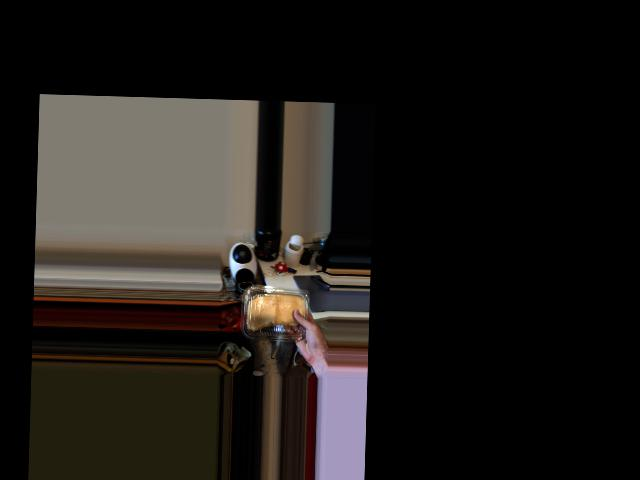cheese: (245, 279, 307, 345)
